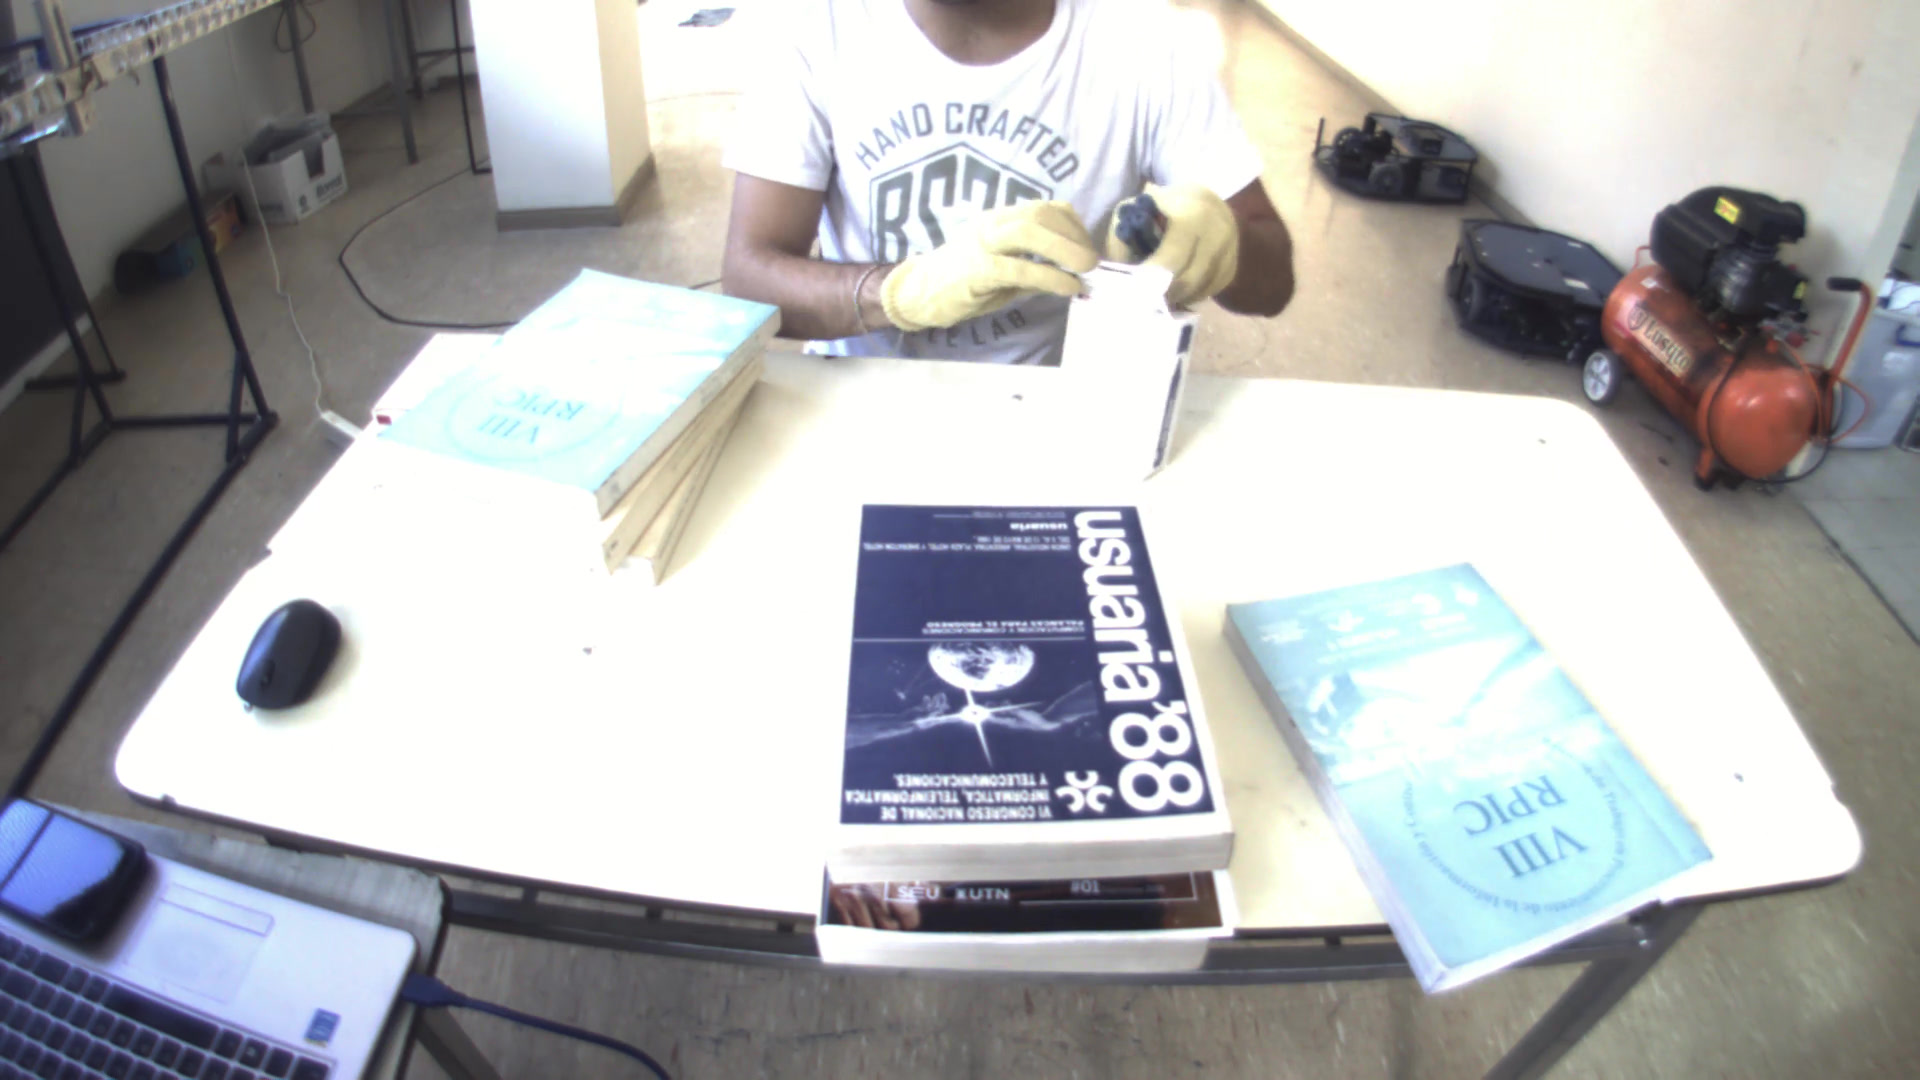hand: (866, 181, 1113, 336), (1127, 169, 1259, 309)
